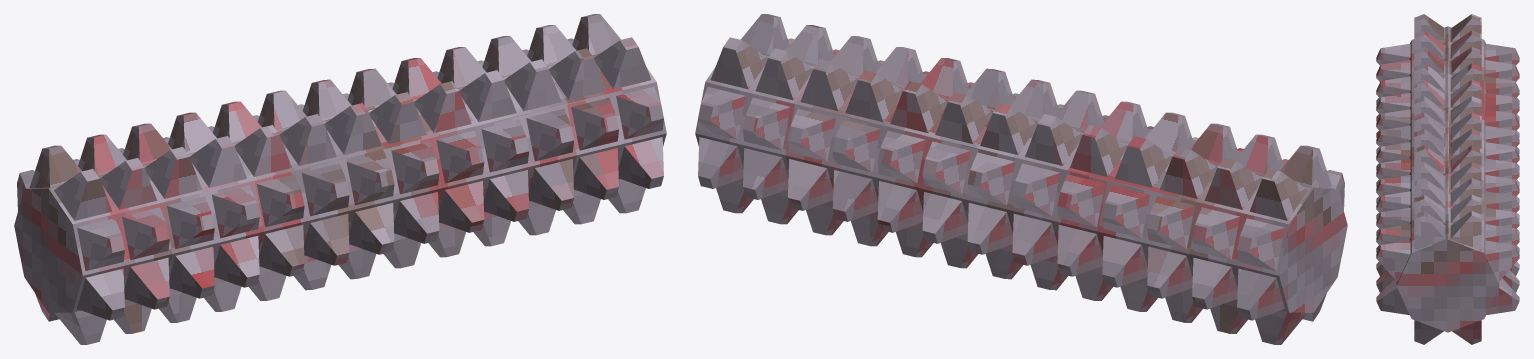
File: grinder_roller.glb
3 renders of one model, left to right at view 1: azimuth 30°, elevation 25°; view 2: azimuth 150°, elevation 25°; view 3: azimuth 270°, elevation 25°, orthographic. The views are drawn at different scales.
Visible parts, largest first — view 1: Grinder_rollers_front; view 2: Grinder_rollers_front; view 3: Grinder_rollers_front.
Boxes of the visible parts, box(x1,y1,x2,y2) form: Grinder_rollers_front: box(14, 14, 666, 344); Grinder_rollers_front: box(695, 14, 1347, 344); Grinder_rollers_front: box(1376, 14, 1519, 344).
Size of the model in its own units: 1.77 by 0.5012 by 0.5012.
Materials: 1 (1 with a texture image).
